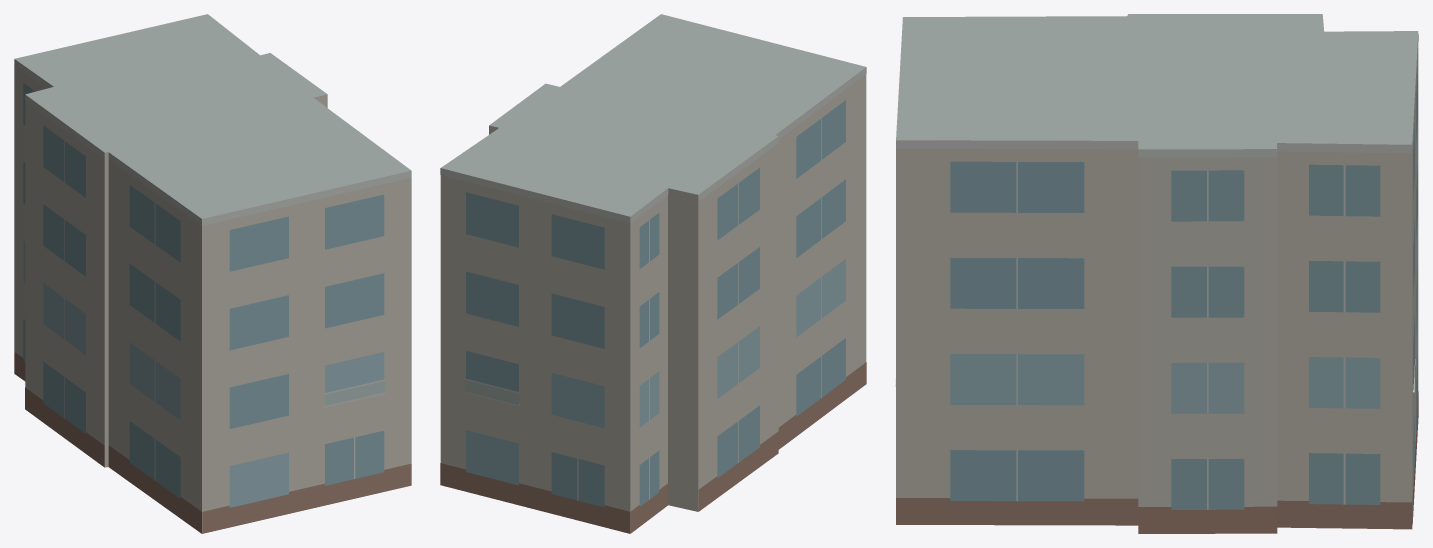
Rendered from survey-upis-32511984.glb.
The picture shows the model from 3 angles, left to right: view 1: azimuth 30°, elevation 25°; view 2: azimuth 150°, elevation 25°; view 3: azimuth 270°, elevation 25°; orthographic projection. The views are drawn at different scales.
Visible parts, largest first — view 1: survey-upis-32511984.tmp; view 2: survey-upis-32511984.tmp; view 3: survey-upis-32511984.tmp.
Boxes of the visible parts, x1,y1,x2,y2 form: survey-upis-32511984.tmp: [14, 14, 411, 533]; survey-upis-32511984.tmp: [440, 14, 866, 533]; survey-upis-32511984.tmp: [895, 14, 1418, 533].
Bounding box in the file's own units: 8.5 × 11.25 × 13.88.
